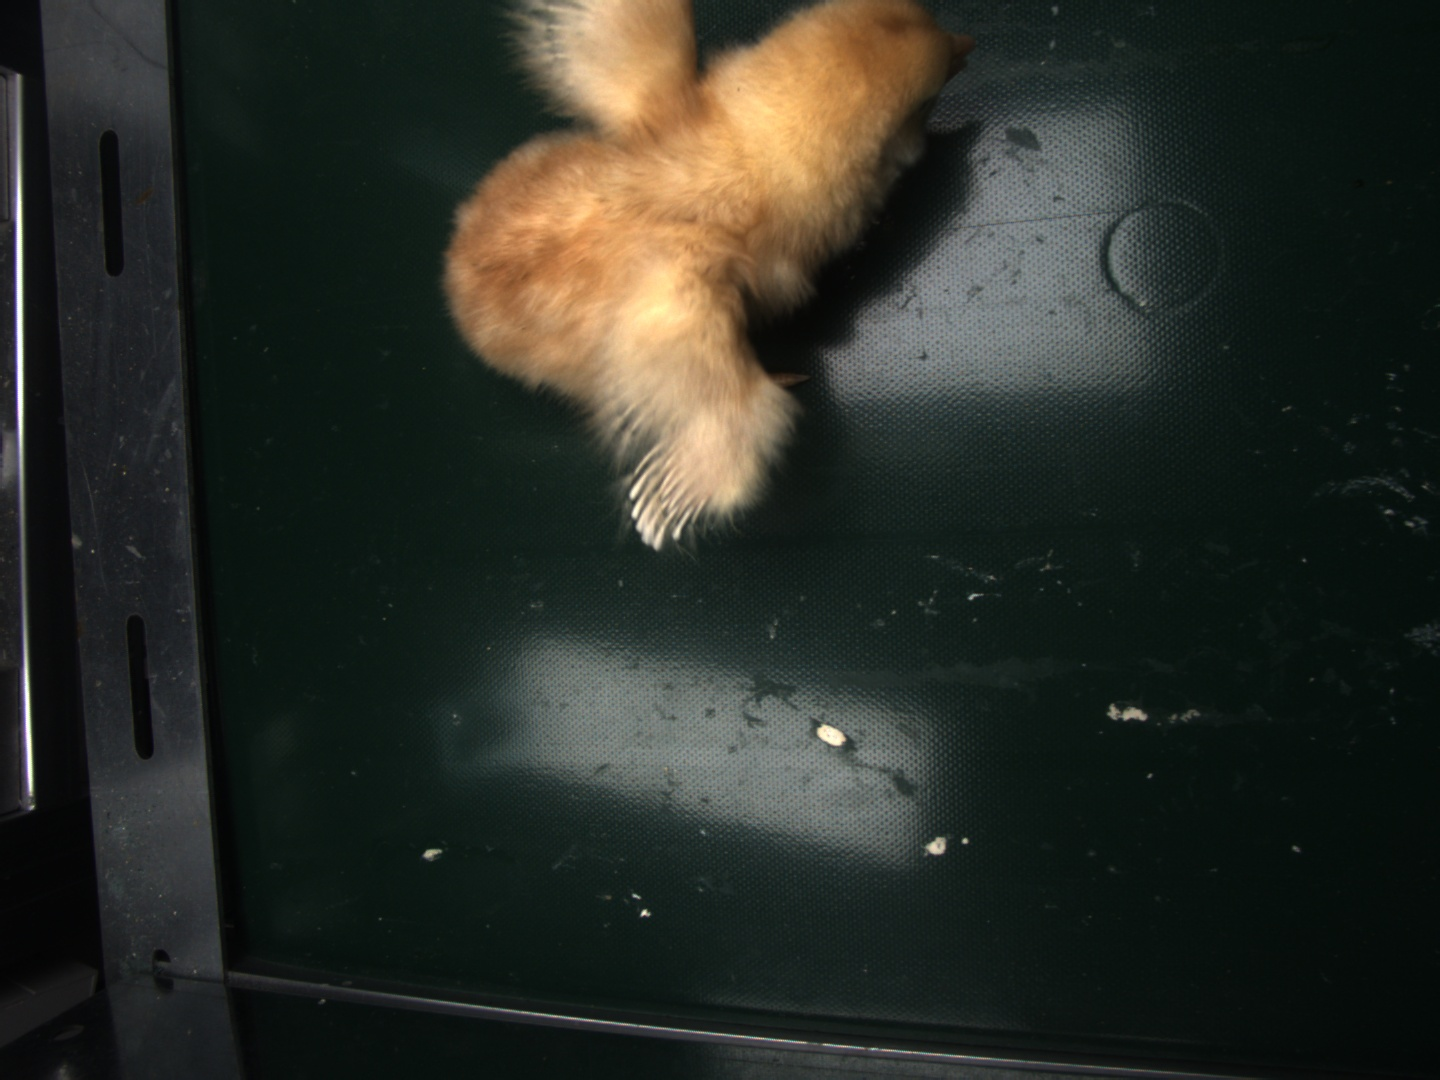female: (626, 448, 710, 546)
